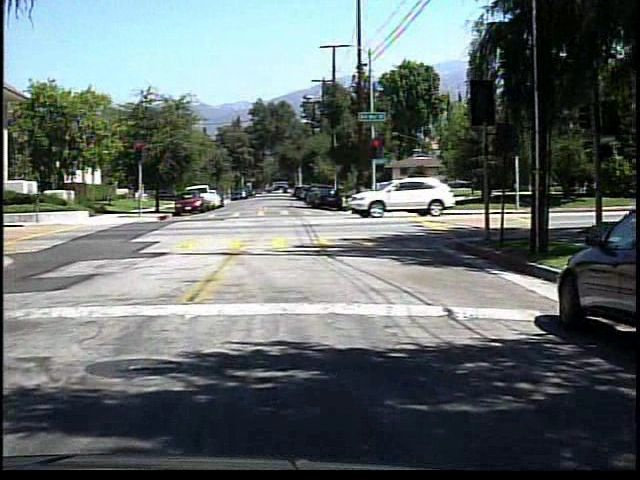person: (435, 172, 453, 214)
